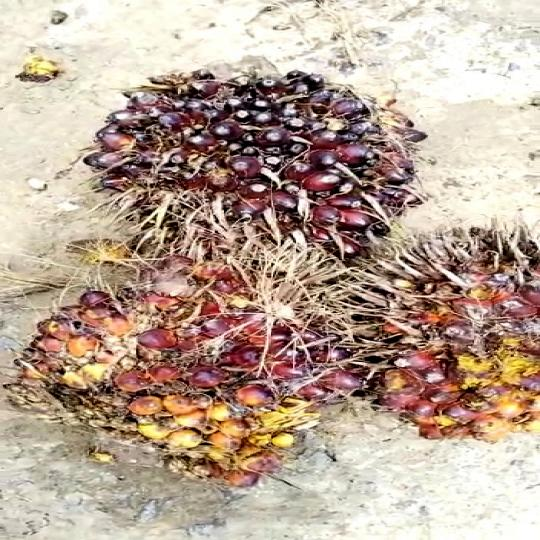masak: (8, 249, 345, 502), (73, 64, 431, 299), (329, 219, 540, 442)
